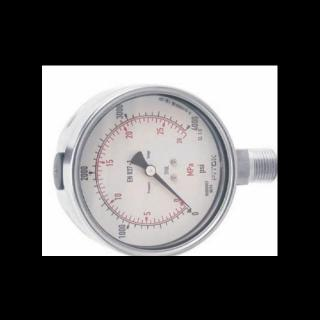gauge: (44, 65, 268, 255), (173, 115, 202, 145), (172, 192, 196, 216), (144, 164, 156, 176), (185, 202, 193, 210)
